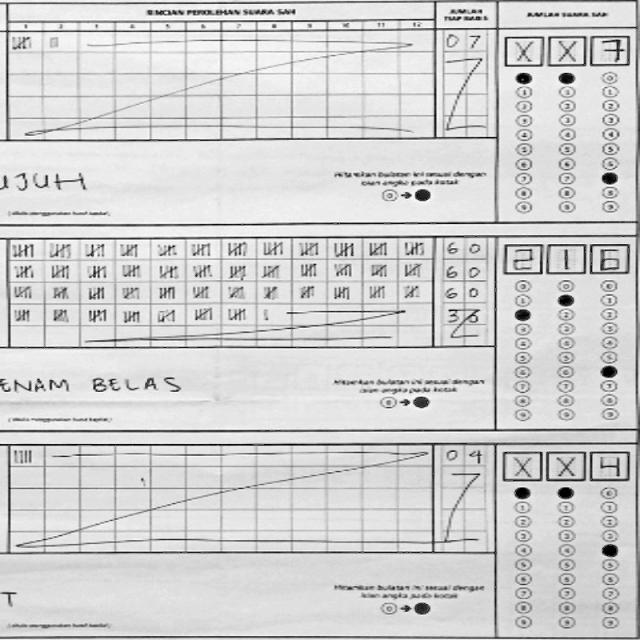Suara: (499, 446, 631, 484), (500, 31, 632, 68), (500, 240, 630, 274)
